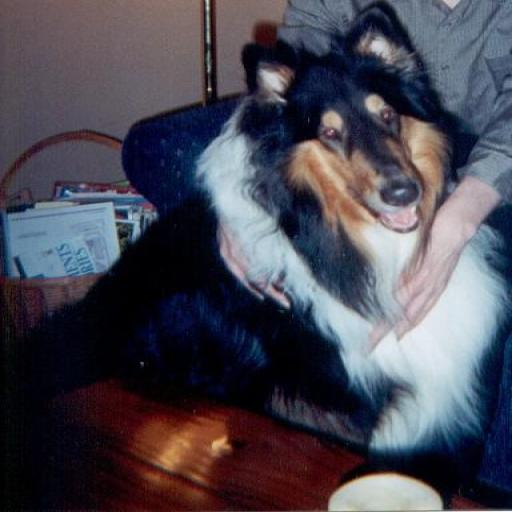dog_face: (243, 12, 456, 230)
